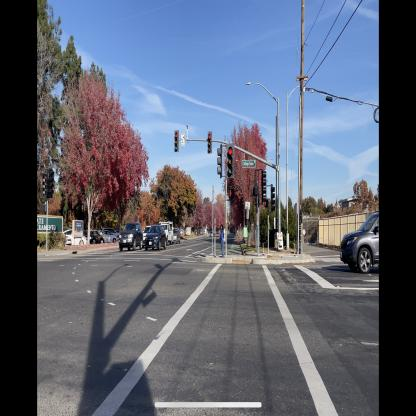left-red: (42, 173, 48, 198)
red: (226, 142, 235, 179), (207, 130, 213, 155), (174, 130, 179, 154)
